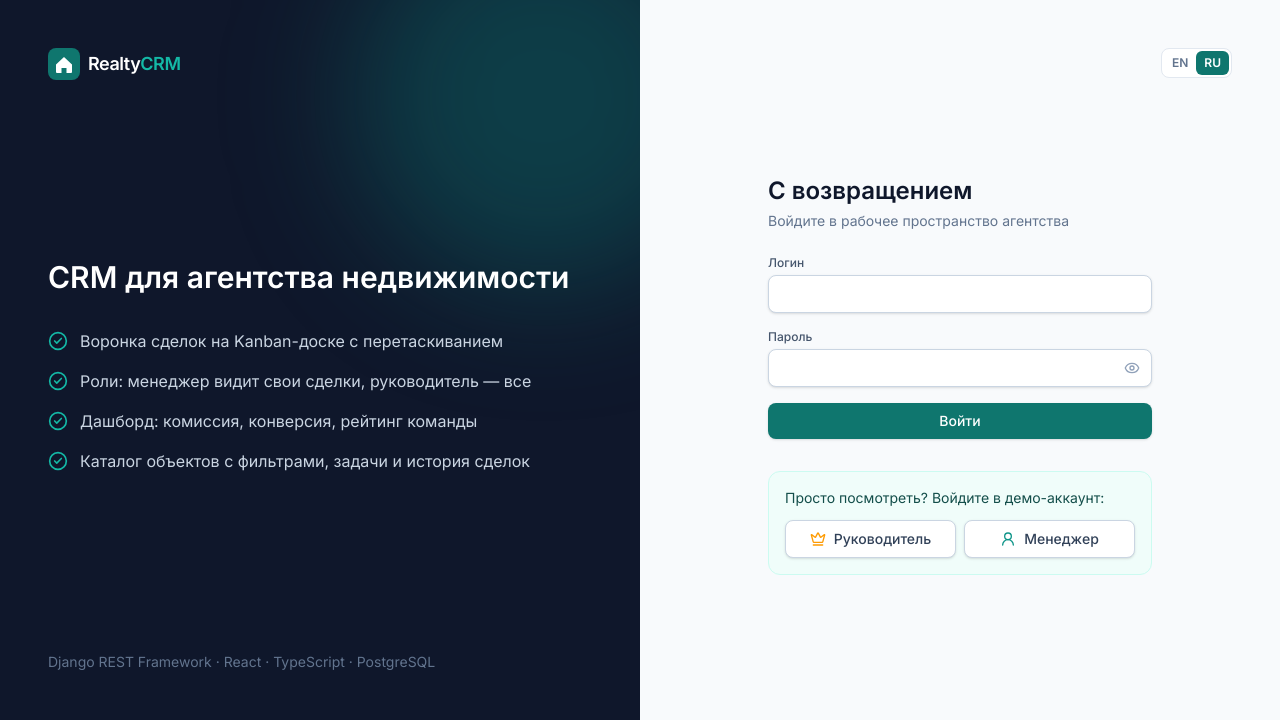
Scenario: LoginPage › shows a translated error for a wrong password
This screenshot has width=1280, height=720.
Type "someone" into the field labelled "Логин" at {"x": 960, "y": 294}, box [768,275,1152,313]
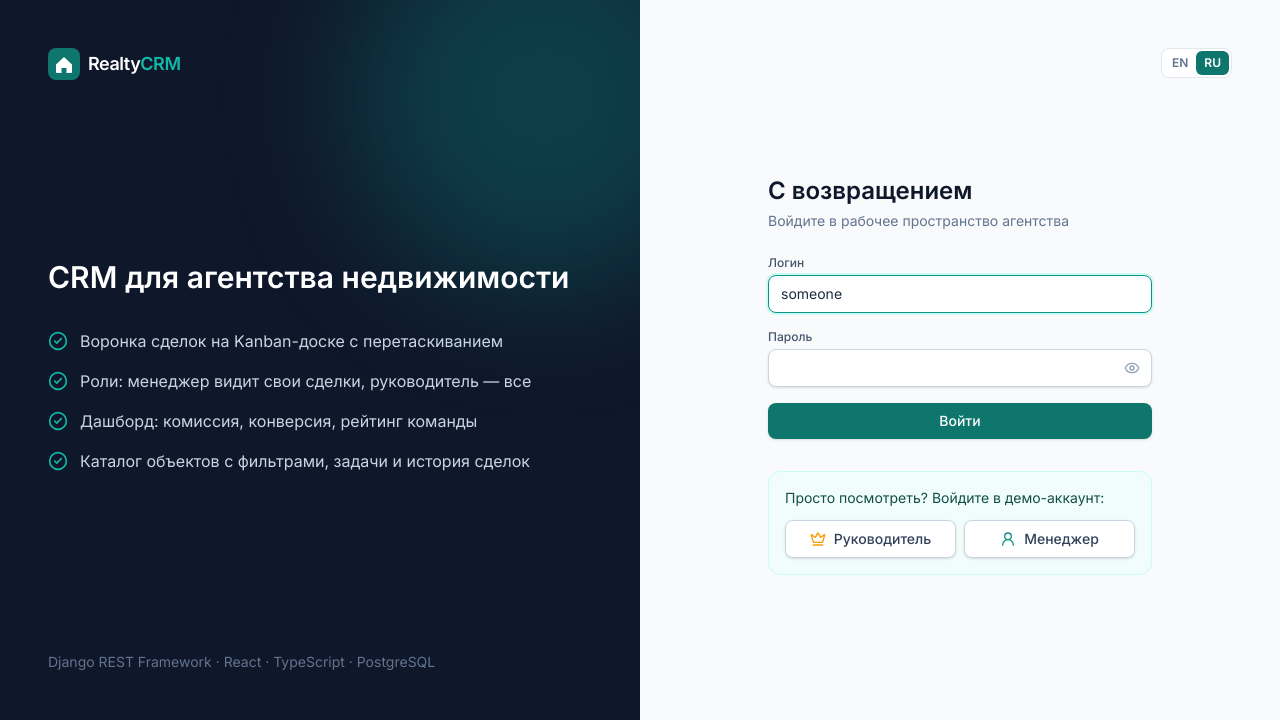
Type "wrong" into the password field labelled "Пароль" at {"x": 960, "y": 368}, box [768,349,1152,387]
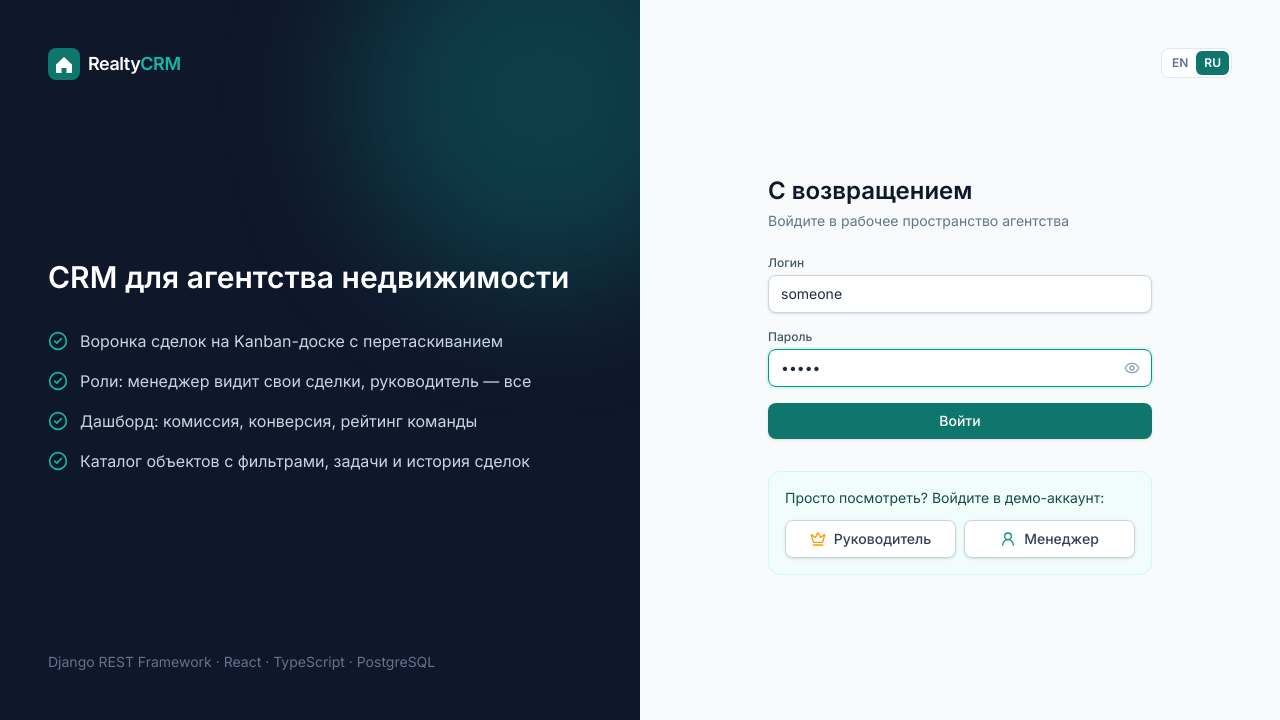
Click the button "Войти" at {"x": 960, "y": 421}, box [768,403,1152,439]
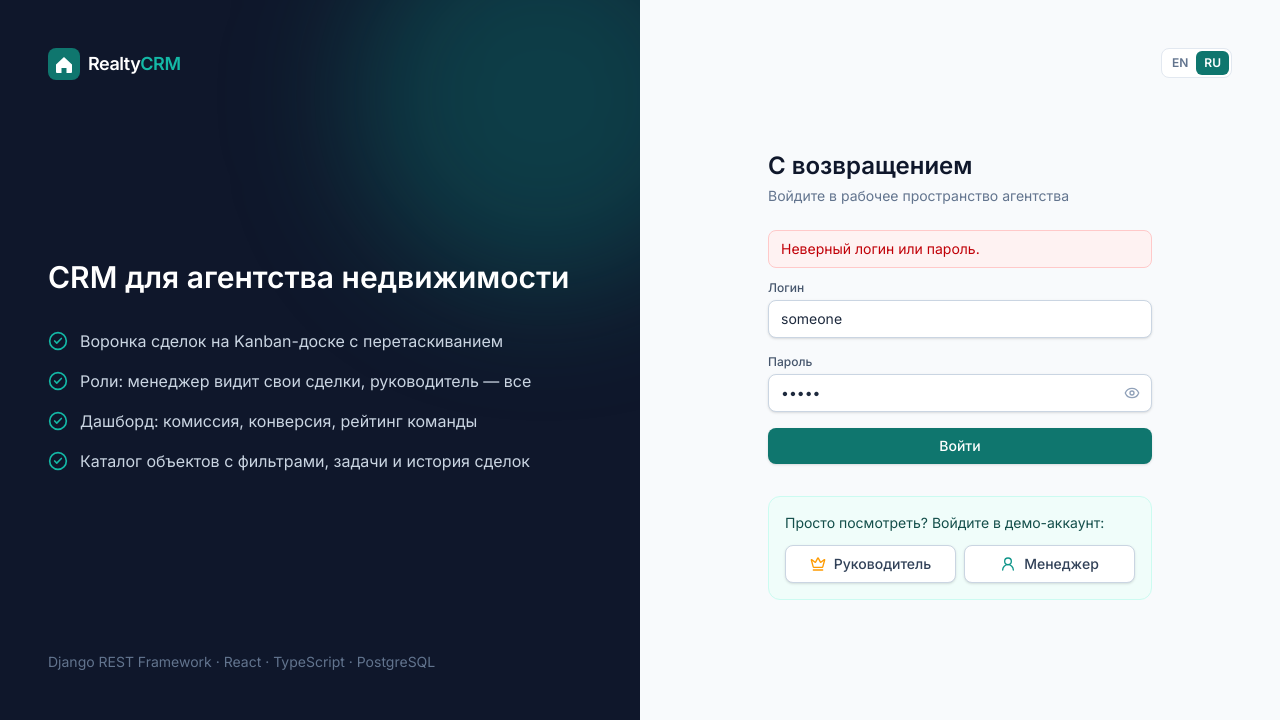
Expected: the text "Неверный логин или пароль." is shown, [768,230,1152,268]
